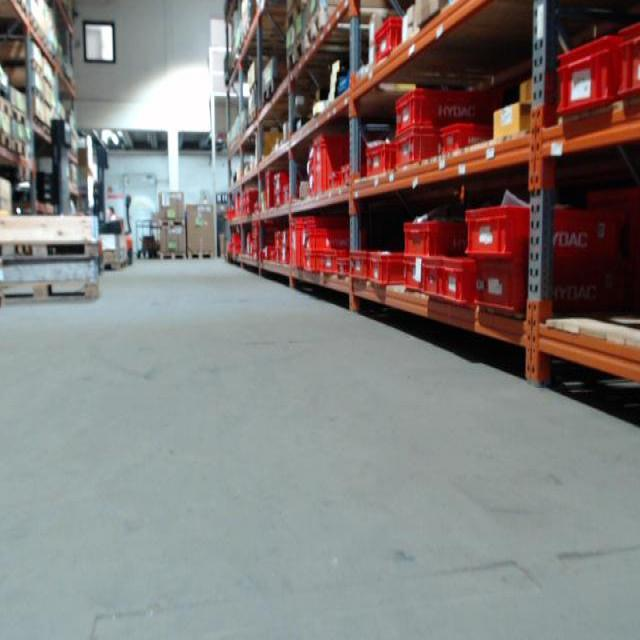pallet: (306, 4, 406, 53), (0, 239, 102, 264), (0, 280, 104, 303), (286, 35, 305, 70), (262, 79, 280, 106), (11, 105, 31, 125), (11, 139, 32, 158), (158, 216, 186, 229), (158, 250, 187, 261), (187, 251, 215, 261), (0, 99, 11, 114)
pallet_truck: (122, 187, 138, 266)
small_load_carrier: (458, 203, 610, 259), (556, 35, 617, 113), (390, 83, 480, 131), (467, 261, 536, 318), (289, 220, 337, 272), (312, 134, 352, 191), (399, 217, 457, 256), (393, 131, 448, 171), (443, 117, 489, 163), (614, 19, 637, 103), (441, 259, 474, 308), (360, 139, 395, 184), (303, 231, 366, 253), (372, 17, 403, 60), (369, 252, 408, 284), (422, 259, 444, 296), (264, 169, 283, 209), (322, 248, 344, 278), (399, 259, 418, 289), (350, 250, 369, 280), (342, 160, 360, 187), (301, 252, 322, 271), (334, 261, 356, 279), (273, 192, 293, 210), (276, 172, 295, 189), (275, 248, 290, 269), (275, 231, 290, 248), (330, 171, 343, 189)
